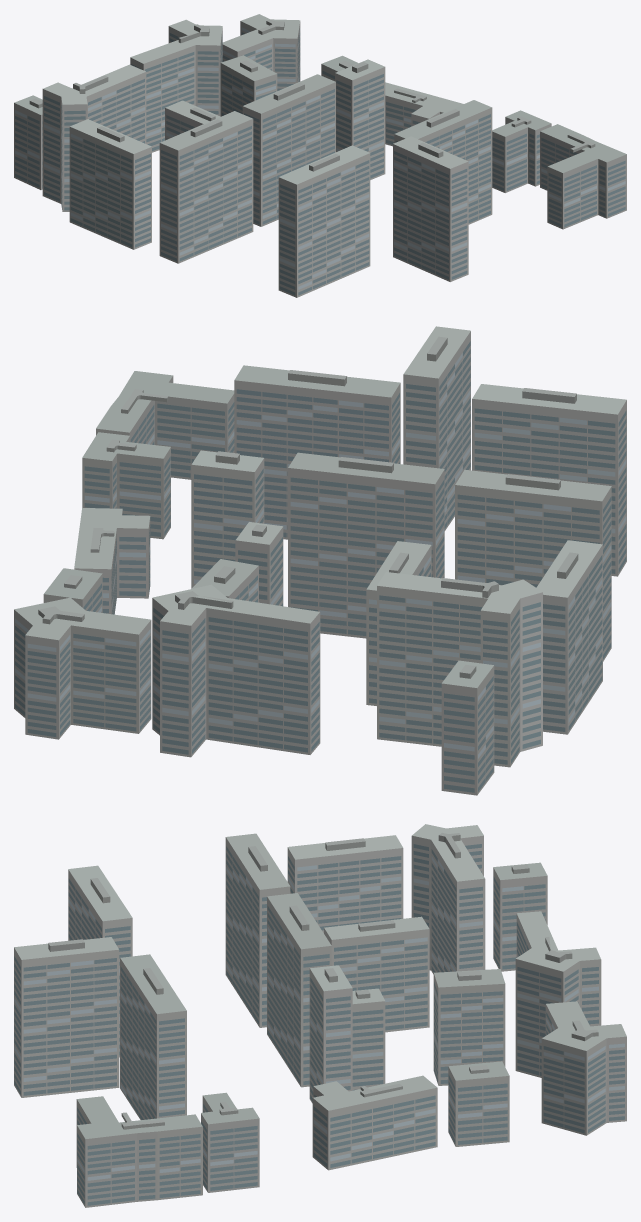
Rendered from apt-a13611103.glb.
The picture shows the model from 3 angles, top to bottom: view 1: azimuth 30°, elevation 25°; view 2: azimuth 150°, elevation 25°; view 3: azimuth 270°, elevation 25°; orthographic projection. The views are drawn at different scales.
Visible parts, largest first — view 1: apt-a13611103; view 2: apt-a13611103; view 3: apt-a13611103.
Boxes of the visible parts, box(x1,y1,x2,y2) form: apt-a13611103: box(14, 14, 626, 297); apt-a13611103: box(14, 326, 626, 795); apt-a13611103: box(14, 824, 626, 1207).
Bounding box in the file's own units: 229 × 60 × 232.
